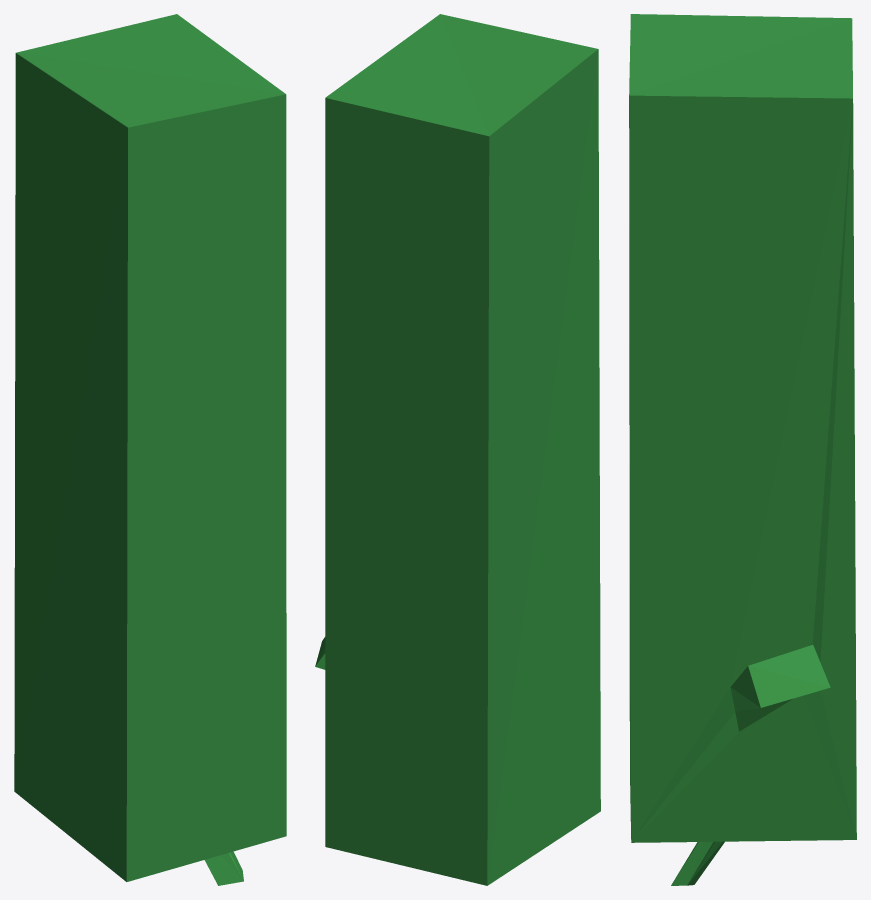
3 renders of one model, left to right at view 1: azimuth 30°, elevation 25°; view 2: azimuth 150°, elevation 25°; view 3: azimuth 270°, elevation 25°, orthographic.
Parts seen in each view (by area): view 1: 219_Cube.900; view 2: 219_Cube.900; view 3: 219_Cube.900.
Part boxes in pixels (x1,y1,x2,y2): 219_Cube.900: (14,14,286,885); 219_Cube.900: (315,14,600,885); 219_Cube.900: (629,14,856,885).
Bounding box in the file's own units: 3.56 × 13.04 × 3.32.
